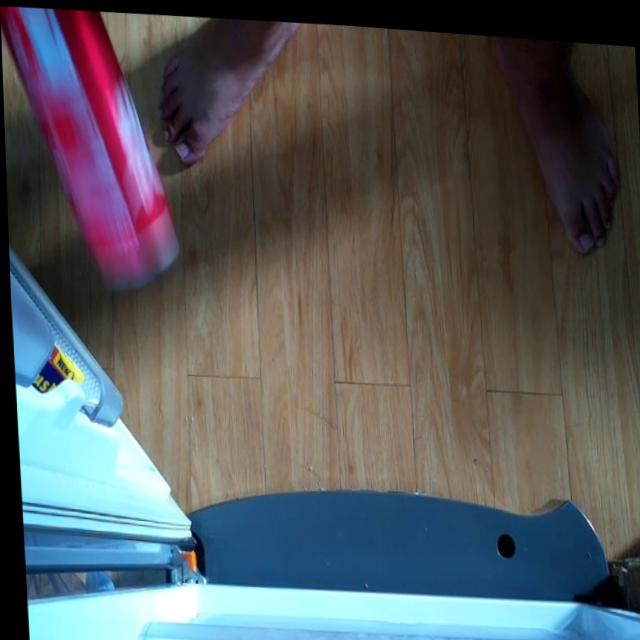coke: (0, 2, 179, 286)
